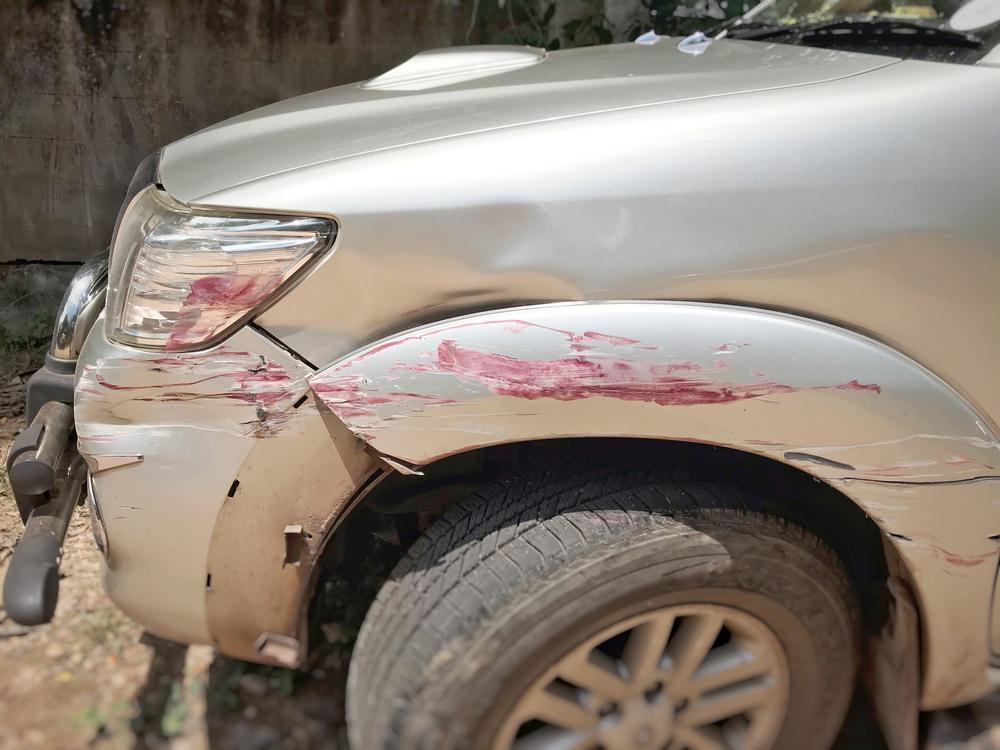dent: (250, 197, 586, 370), (78, 362, 260, 455)
scratch: (307, 305, 900, 442), (766, 425, 1000, 571), (148, 344, 296, 441)
